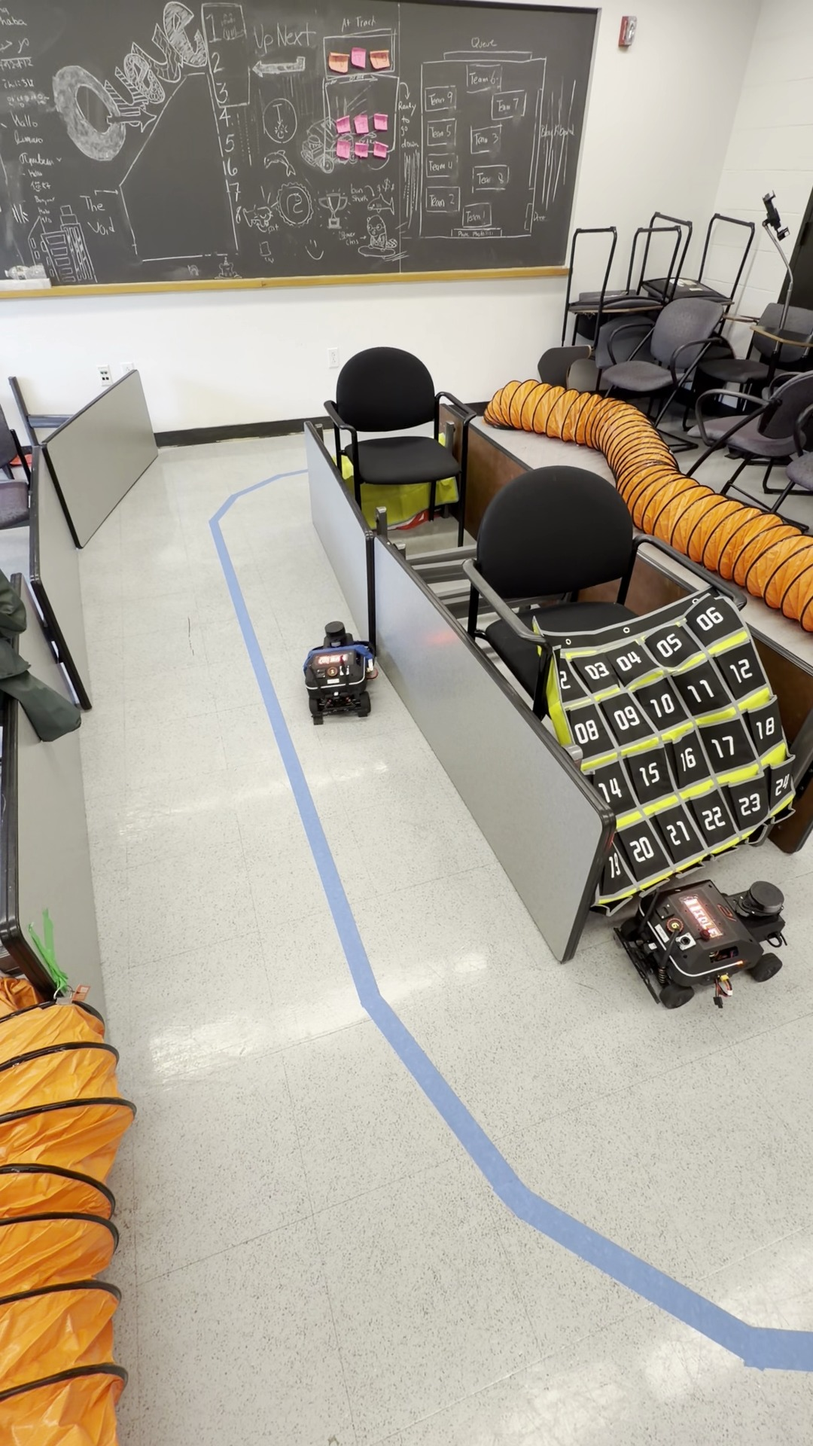racecar: (612, 880, 787, 1007), (302, 623, 378, 721)
